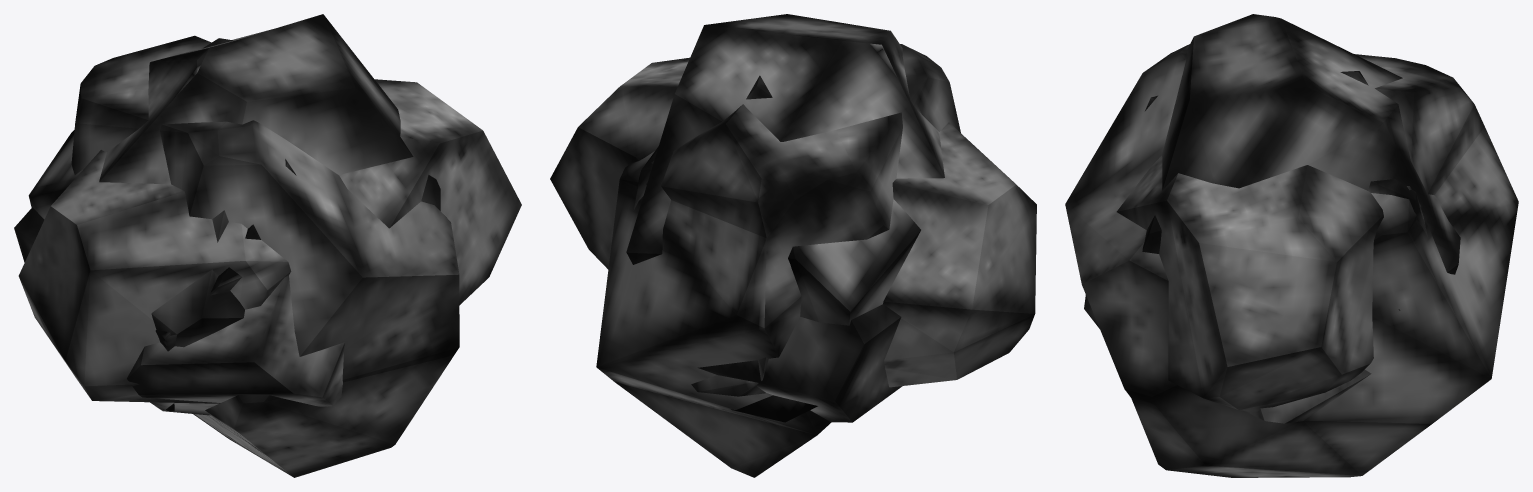
Rendered from UnityStein2.fbx.
The picture shows the model from 3 angles, left to right: view 1: azimuth 30°, elevation 25°; view 2: azimuth 150°, elevation 25°; view 3: azimuth 270°, elevation 25°; orthographic projection.
Parts seen in each view (by area): view 1: Sphere.002, Sphere.003, Sphere.004, Sphere.001, Sphere; view 2: Sphere.002, Sphere.003, Sphere.004, Sphere, Sphere.001; view 3: Sphere.002, Sphere.003, Sphere.004, Sphere.001, Sphere.
Part boxes in pixels (x1,y1,x2,y2): Sphere.002: (71,35,459,477); Sphere.003: (18,79,521,403); Sphere.004: (28,14,440,347); Sphere.001: (127,38,344,415); Sphere: (14,159,296,411); Sphere.002: (596,44,960,477); Sphere.003: (550,57,1036,387); Sphere.004: (626,14,944,422); Sphere: (633,146,902,422); Sphere.001: (691,75,772,396); Sphere.002: (1065,44,1518,477); Sphere.003: (1116,155,1383,412); Sphere.004: (1142,14,1460,274); Sphere.001: (1084,71,1371,423); Sphere: (1145,95,1428,310).
Bounding box in the file's own units: 461 × 415 × 395.
